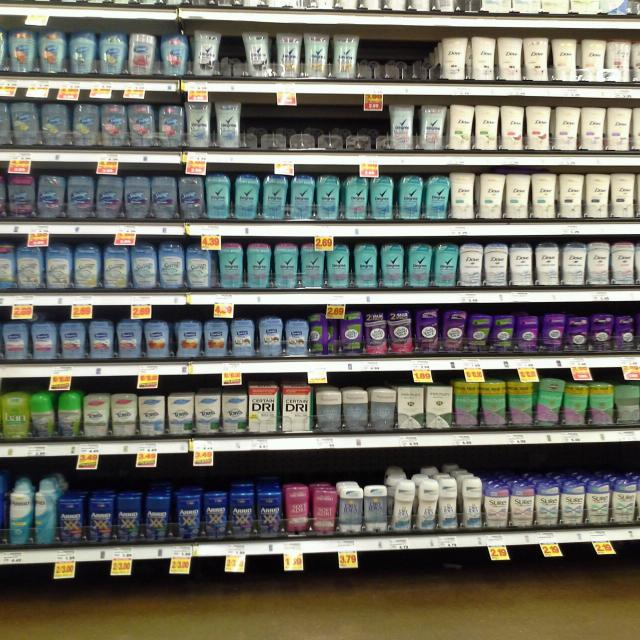empty: (244, 99, 390, 151), (360, 38, 438, 79), (219, 34, 244, 81)
